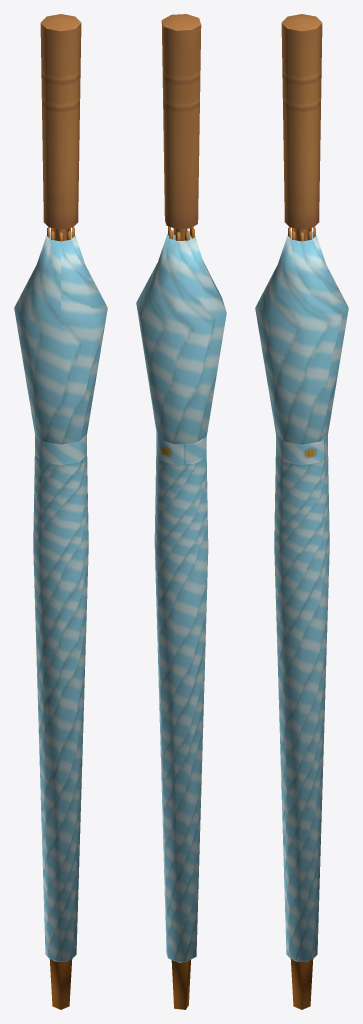
Rendered from set_umbrella_16.fbx.
The picture shows the model from 3 angles, left to right: view 1: azimuth 90°, elevation 25°; view 2: azimuth 210°, elevation 25°; view 3: azimuth 270°, elevation 25°; orthographic projection.
Visible parts, largest first — view 1: set_umbrella_16; view 2: set_umbrella_16; view 3: set_umbrella_16.
Boxes of the visible parts, x1,y1,x2,y2 form: set_umbrella_16: [14, 14, 107, 1009]; set_umbrella_16: [136, 14, 226, 1009]; set_umbrella_16: [255, 14, 348, 1009].
Size of the model in its own units: 7.05 by 82.16 by 7.05.
